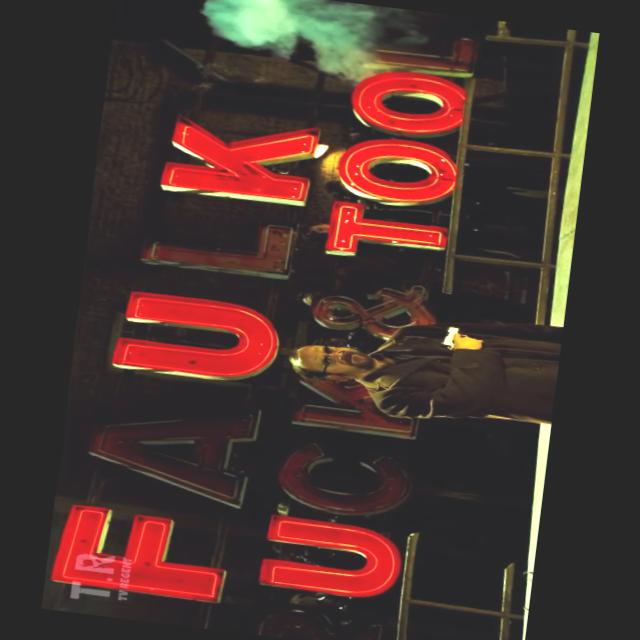handgun: (438, 321, 474, 353)
